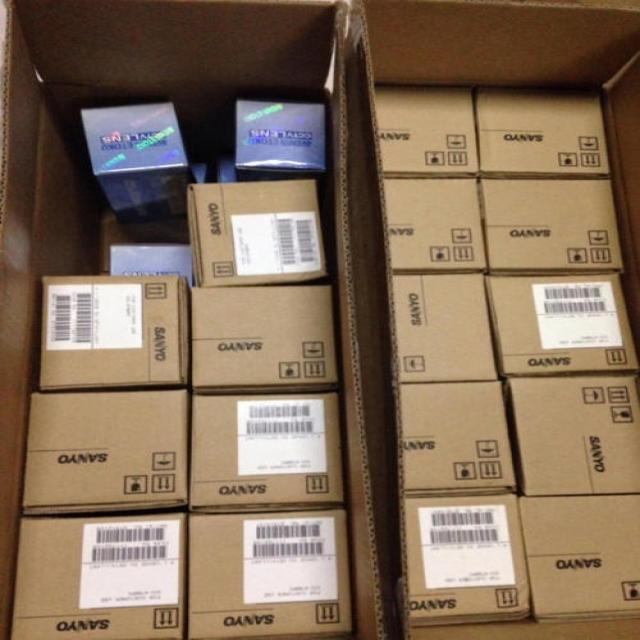box: (8, 512, 187, 640), (20, 387, 189, 515), (187, 509, 352, 640), (186, 390, 344, 512), (41, 274, 189, 390), (79, 102, 198, 245), (502, 376, 640, 496), (406, 494, 530, 626), (189, 286, 339, 391), (186, 177, 329, 287), (486, 272, 640, 374), (520, 495, 640, 622), (398, 380, 518, 496), (480, 178, 625, 270), (475, 87, 611, 180), (393, 274, 502, 385), (384, 178, 488, 275), (378, 83, 479, 177), (234, 99, 325, 183), (110, 243, 193, 288)
